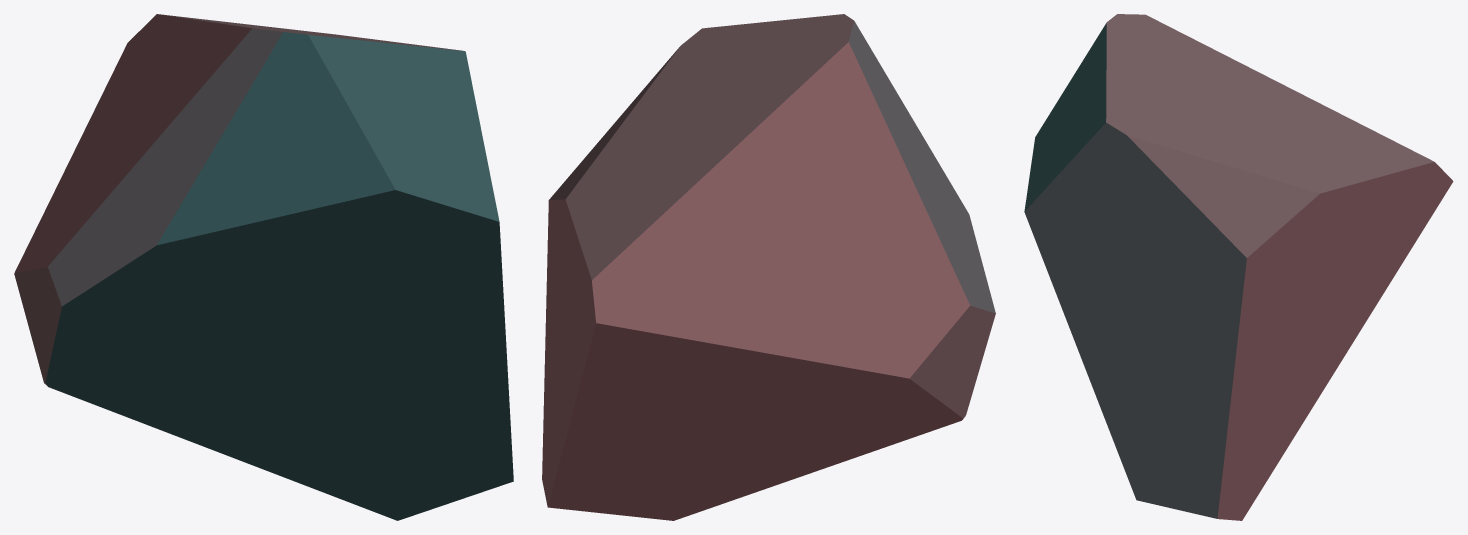
The model's file is gemstone_anim_5_5_10.glb.
3 renders of one model, left to right at view 1: azimuth 30°, elevation 25°; view 2: azimuth 150°, elevation 25°; view 3: azimuth 270°, elevation 25°, orthographic. The views are drawn at different scales.
Parts seen in each view (by area): view 1: gemstone_anim_5_5_10; view 2: gemstone_anim_5_5_10; view 3: gemstone_anim_5_5_10.
Boxes of the visible parts, bbox=[...] form: gemstone_anim_5_5_10: bbox=[14, 14, 513, 520]; gemstone_anim_5_5_10: bbox=[542, 14, 995, 520]; gemstone_anim_5_5_10: bbox=[1024, 14, 1453, 520].
Size of the model in its own units: 1445 by 1650 by 1505.
